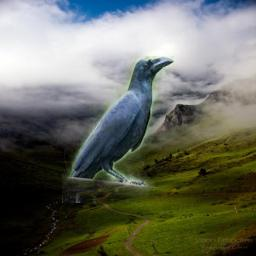Crow: (62, 56, 174, 203)
